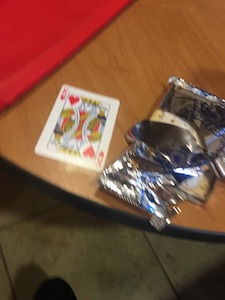KingOfHearts: (34, 81, 121, 173)
